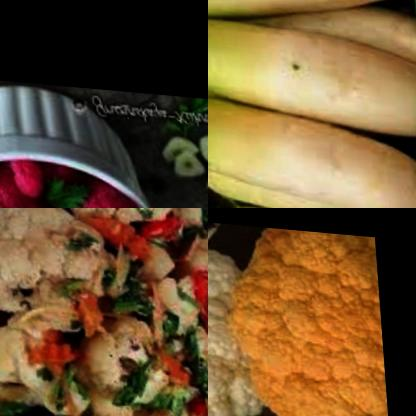cayliflower: (218, 219, 386, 416), (0, 208, 118, 328), (208, 224, 260, 416), (0, 146, 159, 208), (0, 306, 89, 416), (76, 311, 168, 416), (21, 208, 208, 243), (166, 219, 208, 341)
garlic: (155, 124, 208, 202)
redka: (208, 6, 416, 135), (208, 89, 416, 208), (265, 0, 416, 71), (208, 153, 369, 208), (208, 191, 416, 208)
